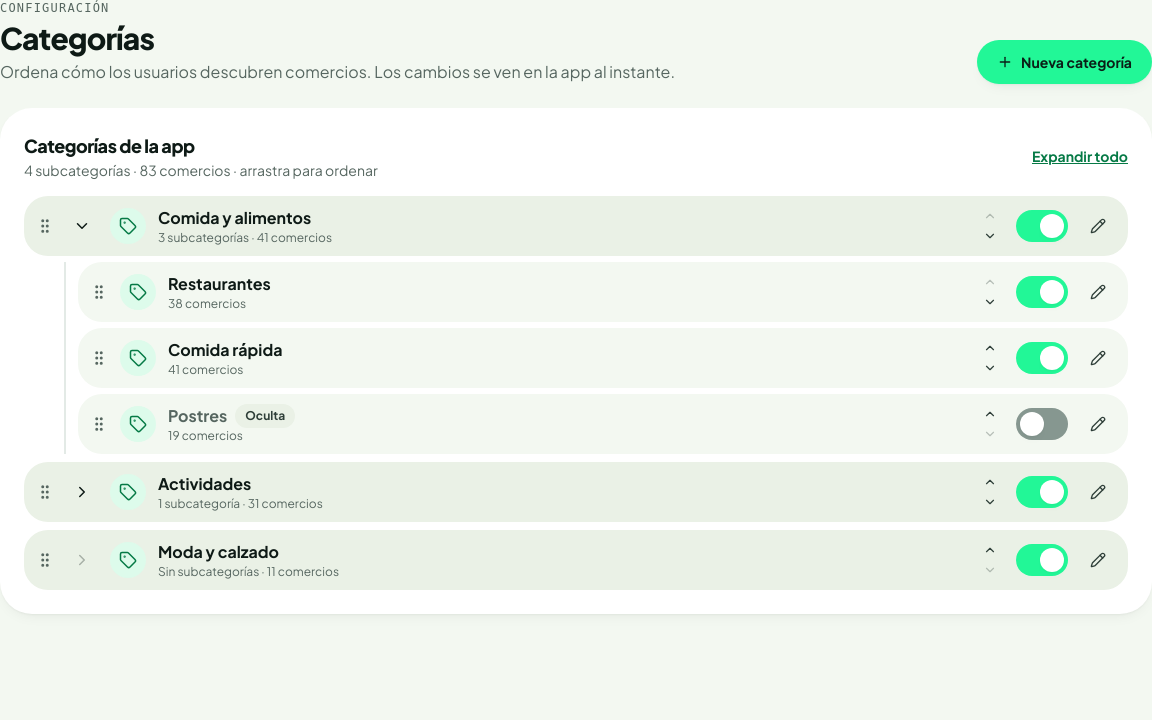
Test: B11 Categorias › en movil el editor se abre en una hoja
Expected: the text "Comida rápida" is shown, [168, 338, 282, 362]
Click the button named "Editar Comida rápida" at (1098, 358), box [1080, 340, 1116, 376]
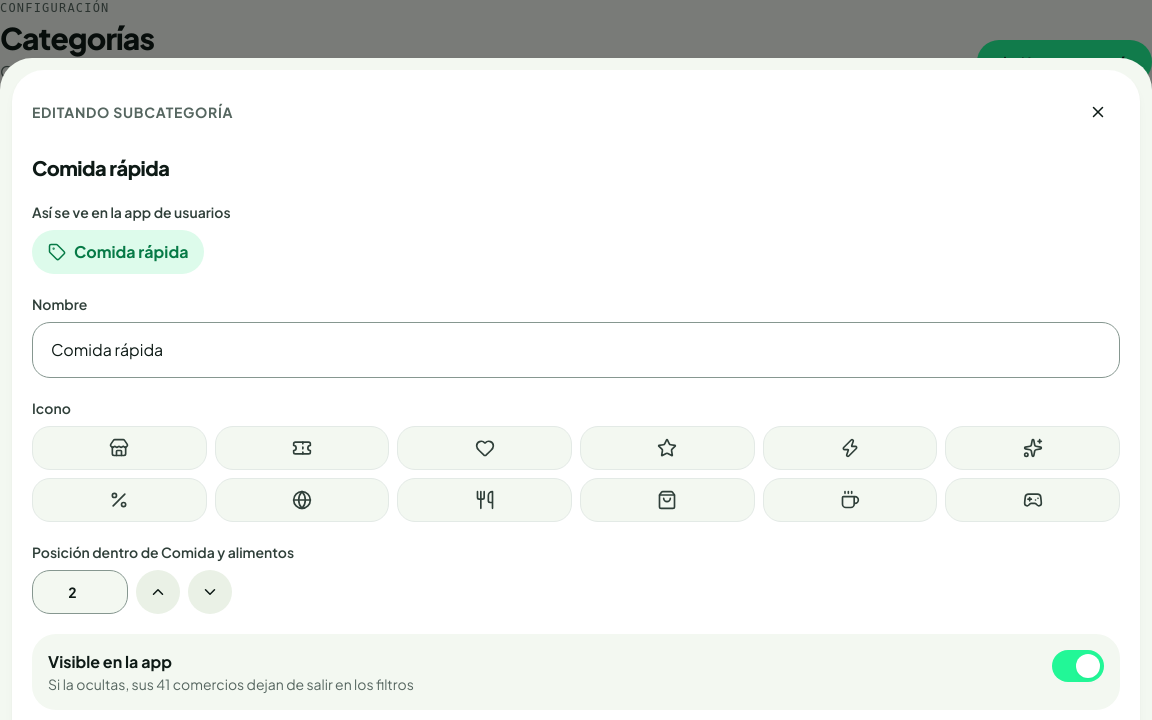
Expected: the dialog is shown
Expected: the heading "Editando subcategoría" is shown, [32, 102, 233, 122]
